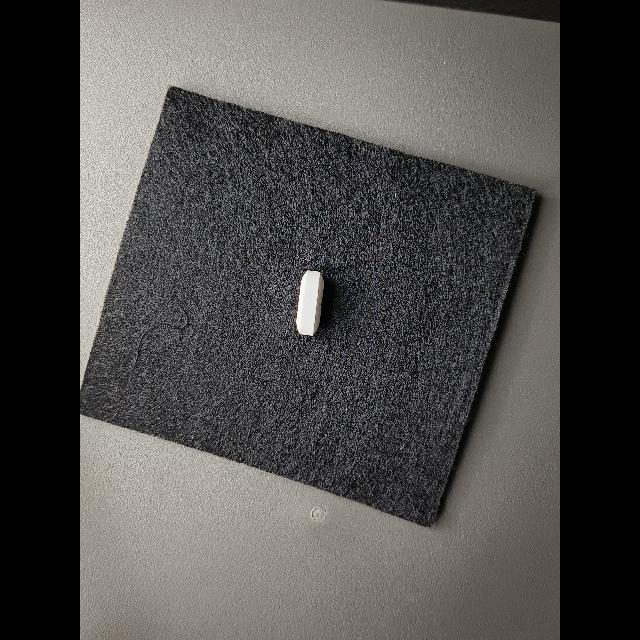Intact Pill: (296, 270, 324, 336)
